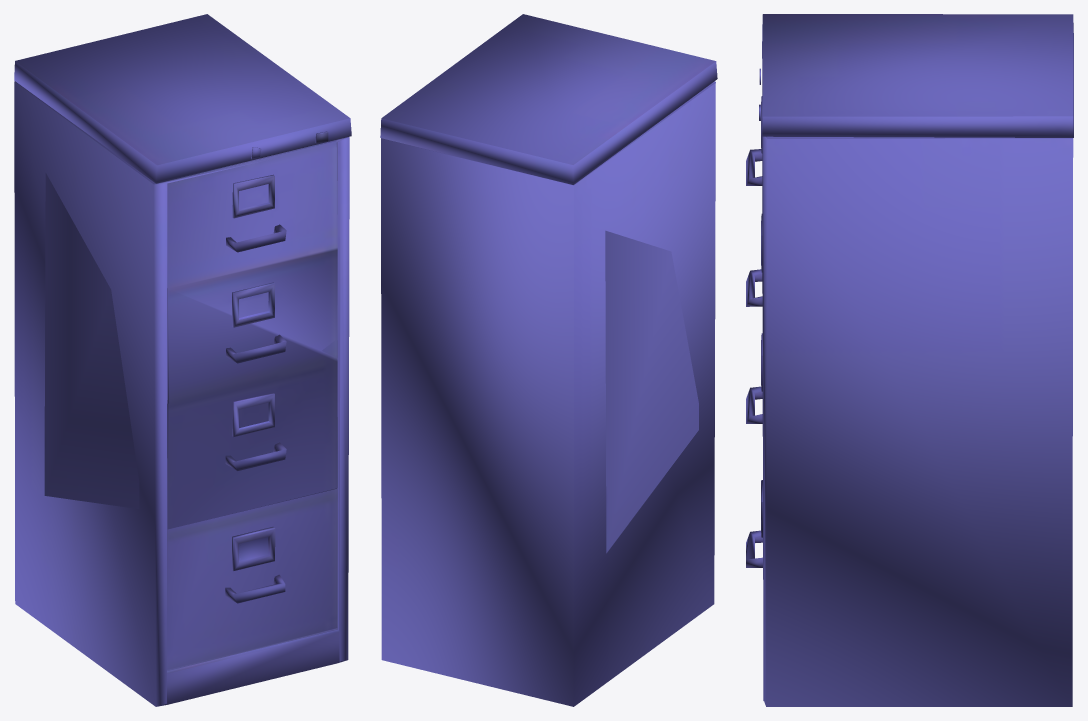
File: model.progressive.glb
3 renders of one model, left to right at view 1: azimuth 30°, elevation 25°; view 2: azimuth 150°, elevation 25°; view 3: azimuth 270°, elevation 25°, orthographic. The views are drawn at different scales.
Visible parts, largest first — view 1: FillingCabinet2; view 2: FillingCabinet2; view 3: FillingCabinet2.
Part boxes in pixels (x1,y1,x2,y2): FillingCabinet2: (14,14,351,706); FillingCabinet2: (380,14,717,706); FillingCabinet2: (746,14,1073,706).
Bounding box in the file's own units: 0.7134 × 1.89 × 0.9508.
1 material, 1 textured.
